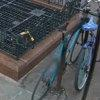Bicycle: (28, 6, 96, 98)
